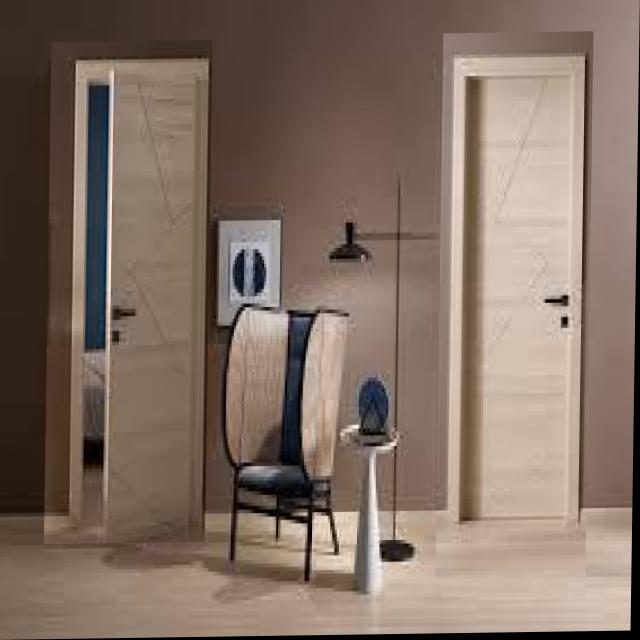close: (437, 33, 595, 581)
semi-open: (46, 41, 213, 545)
